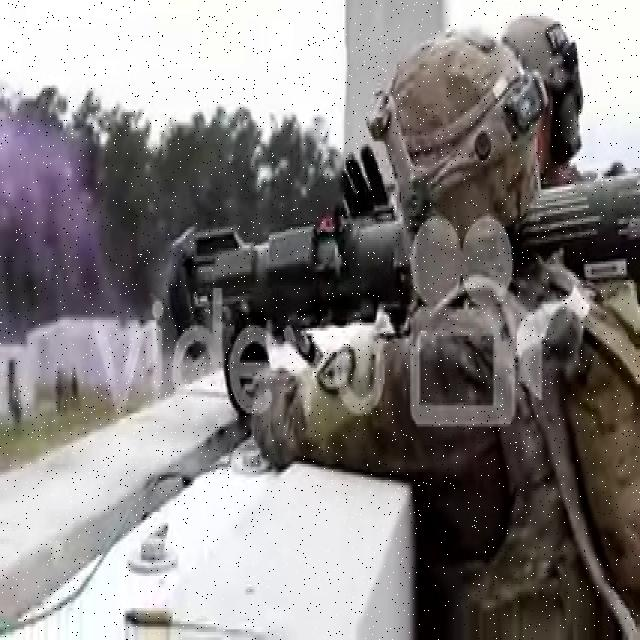bazooka: (169, 159, 640, 367)
